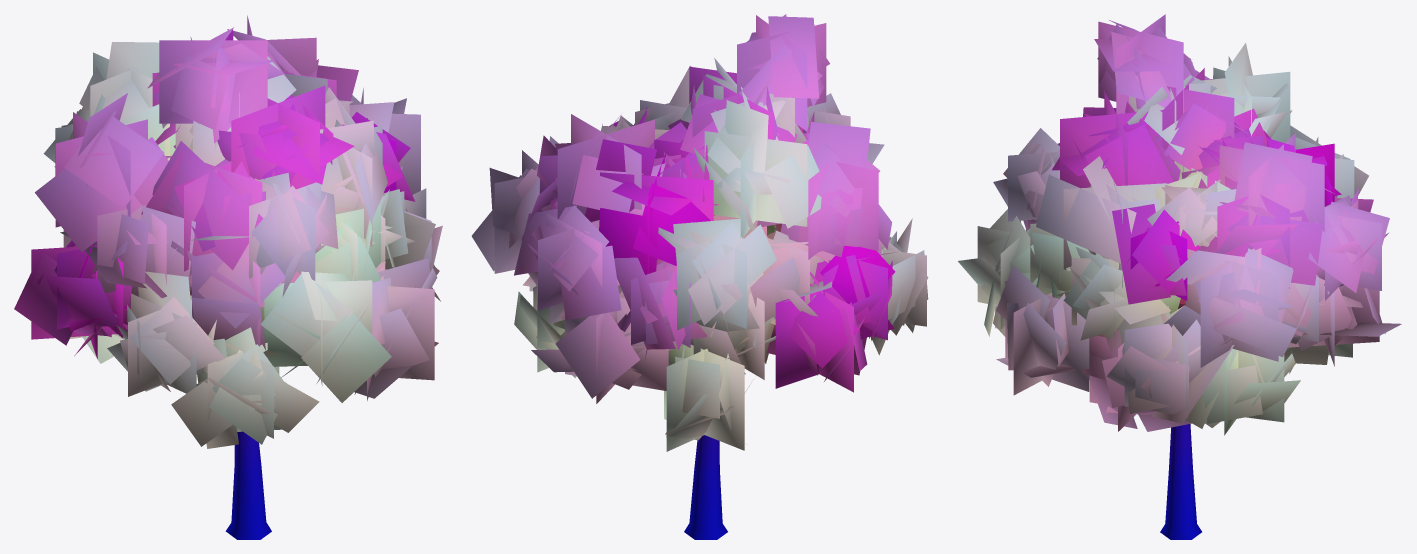
Rendered from broadleaf_a_lod1.glb.
3 views of the same model, side by side, from view 1: azimuth 30°, elevation 25°; view 2: azimuth 150°, elevation 25°; view 3: azimuth 270°, elevation 25° (orthographic). The views are drawn at different scales.
Parts seen in each view (by area): view 1: broadleaf_a_lod1; view 2: broadleaf_a_lod1; view 3: broadleaf_a_lod1.
Part boxes in pixels (x1,y1,x2,y2): broadleaf_a_lod1: (14, 15, 442, 539); broadleaf_a_lod1: (471, 14, 928, 539); broadleaf_a_lod1: (958, 14, 1401, 539).
Size of the model in its own units: 11.29 by 14.46 by 12.02.
